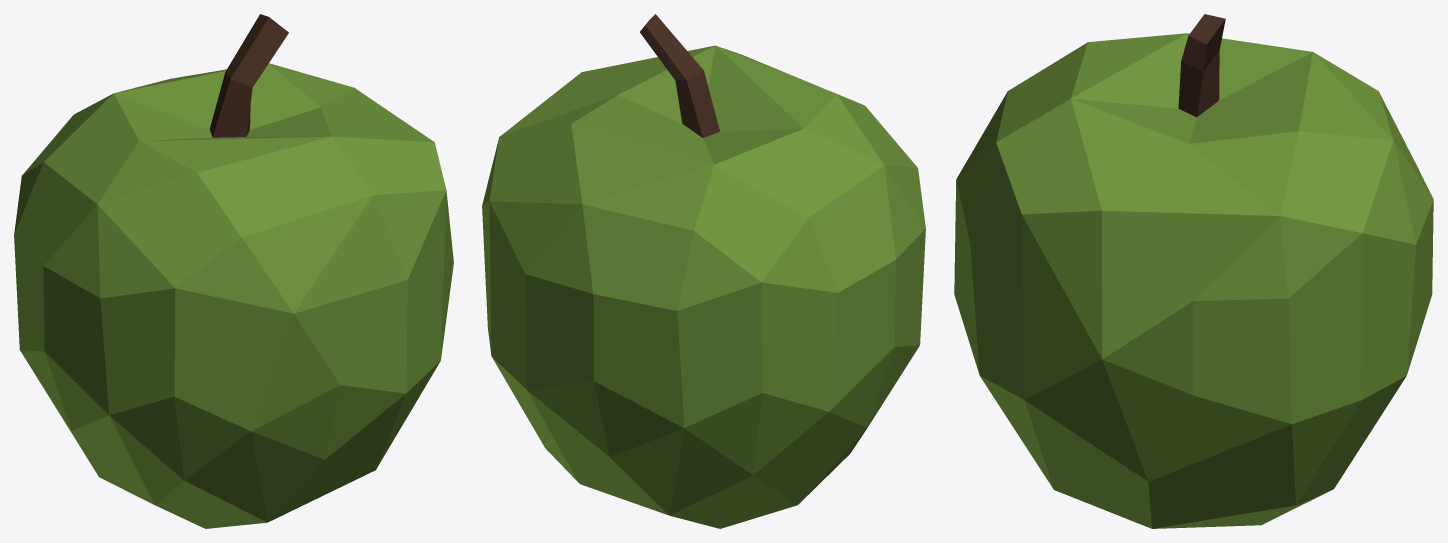
Rendered from apple2.fbx.
3 views of the same model, side by side, from view 1: azimuth 30°, elevation 25°; view 2: azimuth 150°, elevation 25°; view 3: azimuth 270°, elevation 25° (orthographic). The views are drawn at different scales.
Parts seen in each view (by area): view 1: apple.001; view 2: apple.001; view 3: apple.001.
Part boxes in pixels (x1,y1,x2,y2): apple.001: (14, 14, 453, 528); apple.001: (482, 14, 925, 528); apple.001: (954, 14, 1433, 528).
Bounding box in the file's own units: 153 × 180 × 152.
